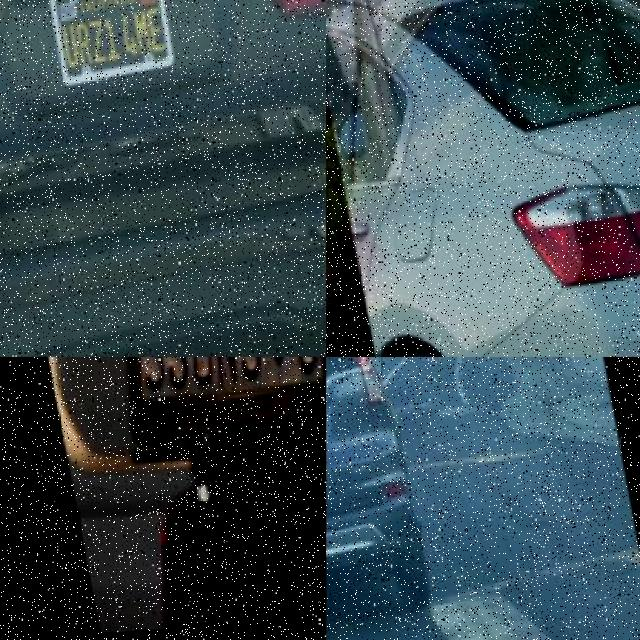licenseplate: (128, 357, 326, 459), (48, 0, 174, 95), (326, 409, 352, 460), (434, 357, 443, 361)
